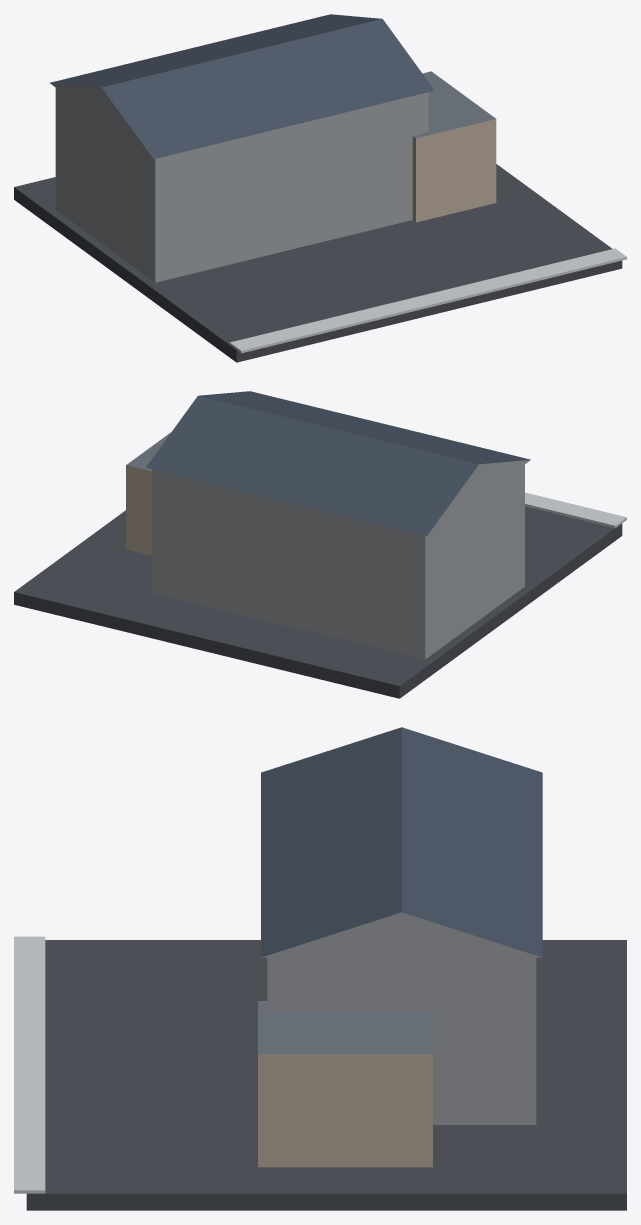
3 views of the same model, one above another, from view 1: azimuth 30°, elevation 25°; view 2: azimuth 150°, elevation 25°; view 3: azimuth 270°, elevation 25° (orthographic). The views are drawn at different scales.
Parts seen in each view (by area): view 1: b33_v2_lod2; view 2: b33_v2_lod2; view 3: b33_v2_lod2.
Part boxes in pixels (box(x1,y1,x2,y2)): b33_v2_lod2: box(14, 14, 626, 362); b33_v2_lod2: box(14, 391, 626, 698); b33_v2_lod2: box(14, 727, 626, 1210).
Bounding box in the file's own units: 0.96 × 0.41 × 0.98.
